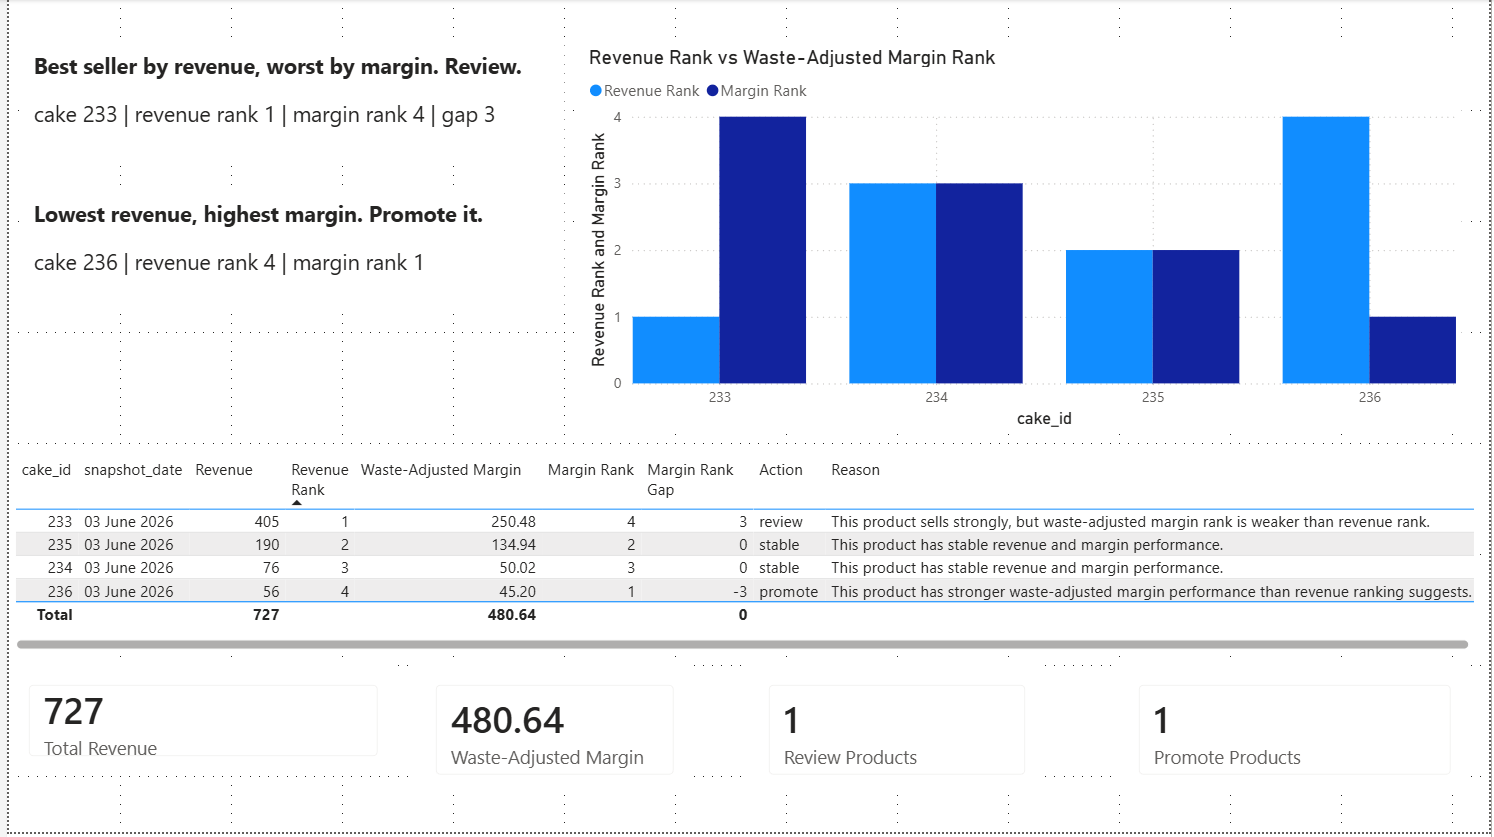

Layout of this report page (visuals, bound fields, positions):
{"tool":"powerbi","page":{"name":"Rank Inversion Overview","canvas":[1280,720],"ordinal":0},"visuals":[{"type":"textbox","box":[16,0,464,96],"z":0},{"type":"textbox","box":[16,112,464,96],"z":1000},{"type":"tableEx","fields":{"Values":["Fact_ProductPerformanceSnapshot.cake_id","Fact_ProductPerformanceSnapshot.snapshot_date","Sum(Fact_ProductPerformanceSnapshot.revenue)","Fact_ProductPerformanceSnapshot.revenue_rank","Sum(Fact_ProductPerformanceSnapshot.waste_adjusted_margin)","Fact_ProductPerformanceSnapshot.waste_adjusted_margin_rank","Sum(Fact_ProductPerformanceSnapshot.Margin Rank Gap)","Fact_ProductPerformanceSnapshot.action_flag","Fact_ProductPerformanceSnapshot.action_reason"]},"box":[0,368,1280,176],"z":2000},{"type":"clusteredColumnChart","title":"Revenue Rank vs Waste-Adjusted Margin Rank","fields":{"Category":["Fact_ProductPerformanceSnapshot.cake_id"],"Y":["Sum(Fact_ProductPerformanceSnapshot.revenue_rank)","Sum(Fact_ProductPerformanceSnapshot.waste_adjusted_margin_rank)"]},"box":[496,0,784,336],"z":3000},{"type":"cardVisual","fields":{"Data":["z_Measures.Total Revenue"]},"box":[0,576,336,96],"z":4000},{"type":"cardVisual","fields":{"Data":["z_Measures.Waste Adjusted Margin"]},"box":[352,576,240,112],"z":5000},{"type":"cardVisual","fields":{"Data":["z_Measures.Review Product Count"]},"box":[640,576,256,112],"z":6000},{"type":"cardVisual","fields":{"Data":["z_Measures.Promote Product Count"]},"box":[960,576,272,112],"z":7000}]}

Visuals, with their boxes in screenshot pixels (x1, y1, x2, y2), scaled from the page's 1280x720 canvas onto the 1494x837 screenshot:
textbox: region(19, 0, 560, 112)
textbox: region(19, 130, 560, 242)
tableEx - Fact_ProductPerformanceSnapshot.cake_id x Fact_ProductPerformanceSnapshot.snapshot_date: region(0, 428, 1493, 632)
"Revenue Rank vs Waste-Adjusted Margin Rank" clusteredColumnChart: region(579, 0, 1493, 391)
cardVisual - z_Measures.Total Revenue: region(0, 670, 392, 781)
cardVisual - z_Measures.Waste Adjusted Margin: region(411, 670, 691, 800)
cardVisual - z_Measures.Review Product Count: region(747, 670, 1046, 800)
cardVisual - z_Measures.Promote Product Count: region(1120, 670, 1438, 800)
